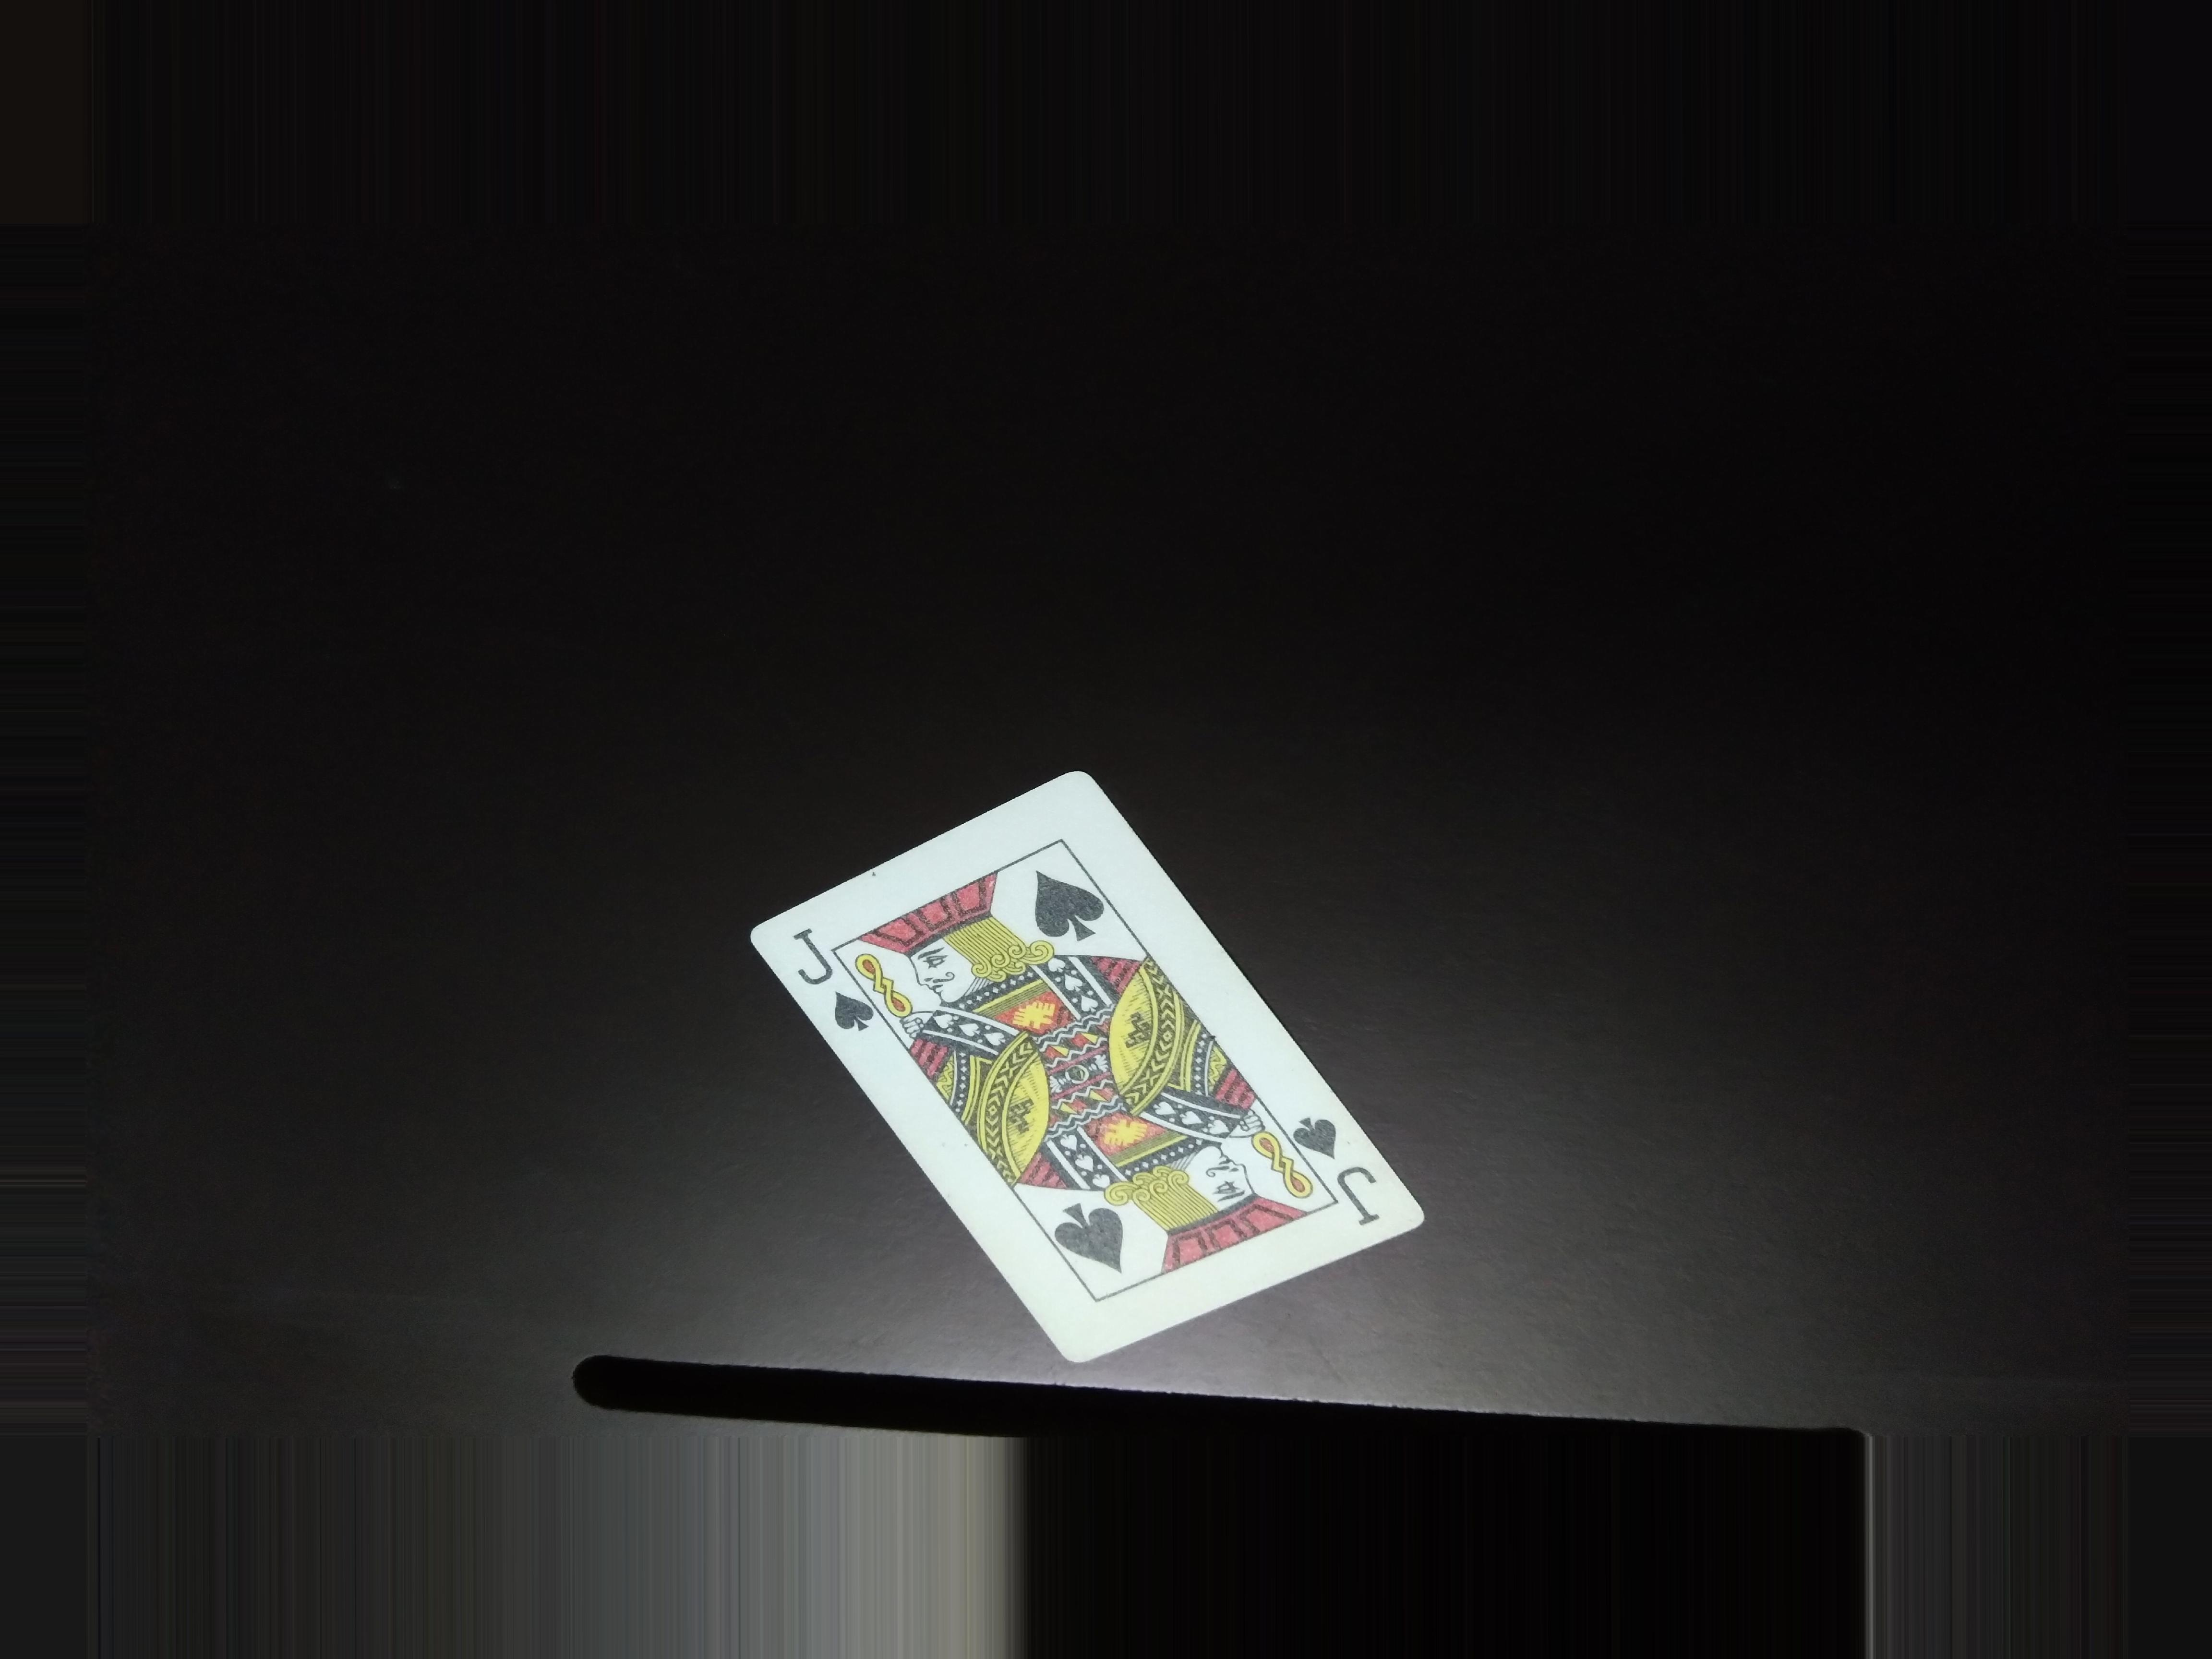JS: (784, 917, 876, 1035)
